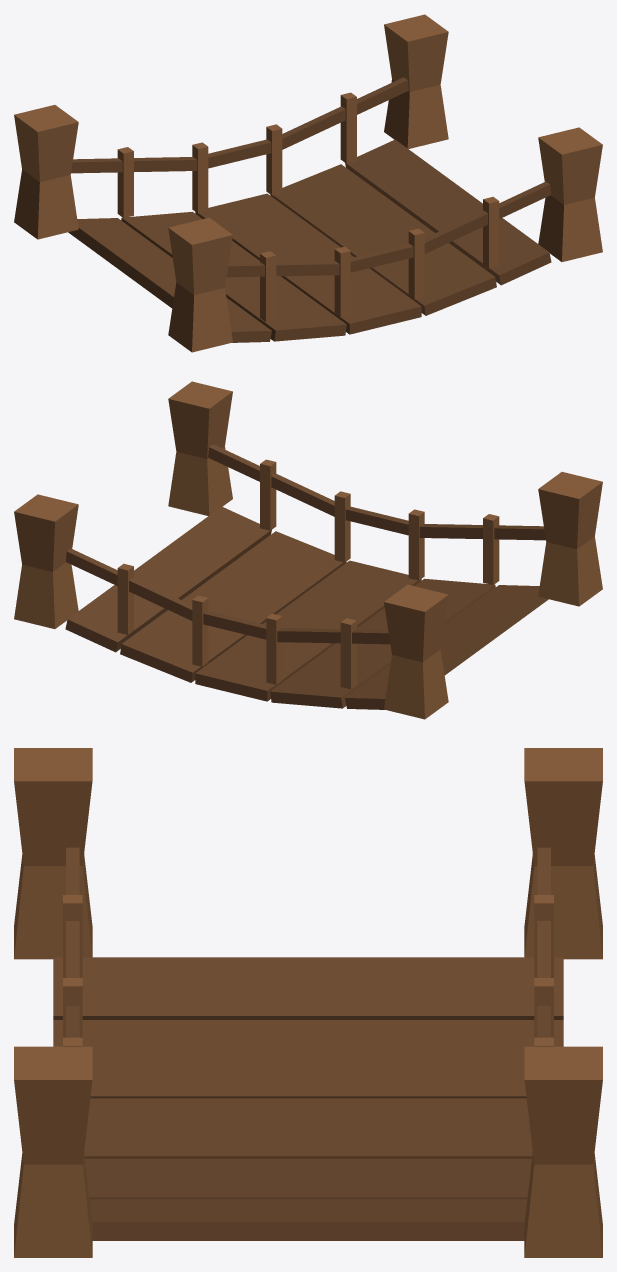
Rendered from Bridge_2_Light_Brown.fbx.
The picture shows the model from 3 angles, top to bottom: view 1: azimuth 30°, elevation 25°; view 2: azimuth 150°, elevation 25°; view 3: azimuth 270°, elevation 25°; orthographic projection. The views are drawn at different scales.
Visible parts, largest first — view 1: Bridge_2_Light_Brown_Part_2, Bridge_2_Light_Brown_Part_4, Bridge_2_Light_Brown_Part_3, Bridge_2_Light_Brown_Part_1; view 2: Bridge_2_Light_Brown_Part_2, Bridge_2_Light_Brown_Part_3, Bridge_2_Light_Brown_Part_4, Bridge_2_Light_Brown_Part_1; view 3: Bridge_2_Light_Brown_Part_1, Bridge_2_Light_Brown_Part_2, Bridge_2_Light_Brown_Part_4, Bridge_2_Light_Brown_Part_3.
Part boxes in pixels (x1,y1,x2,y2): Bridge_2_Light_Brown_Part_2: (231,139,551,325); Bridge_2_Light_Brown_Part_4: (168,127,602,352); Bridge_2_Light_Brown_Part_3: (14,14,448,239); Bridge_2_Light_Brown_Part_1: (68,202,385,342); Bridge_2_Light_Brown_Part_2: (65,506,385,692); Bridge_2_Light_Brown_Part_3: (14,494,448,719); Bridge_2_Light_Brown_Part_4: (168,381,602,606); Bridge_2_Light_Brown_Part_1: (231,569,548,709); Bridge_2_Light_Brown_Part_1: (53,957,563,1127); Bridge_2_Light_Brown_Part_2: (84,1127,532,1240); Bridge_2_Light_Brown_Part_4: (14,748,92,1257); Bridge_2_Light_Brown_Part_3: (524,748,602,1257).
Bounding box in the file's own units: 400 × 130 × 300.
